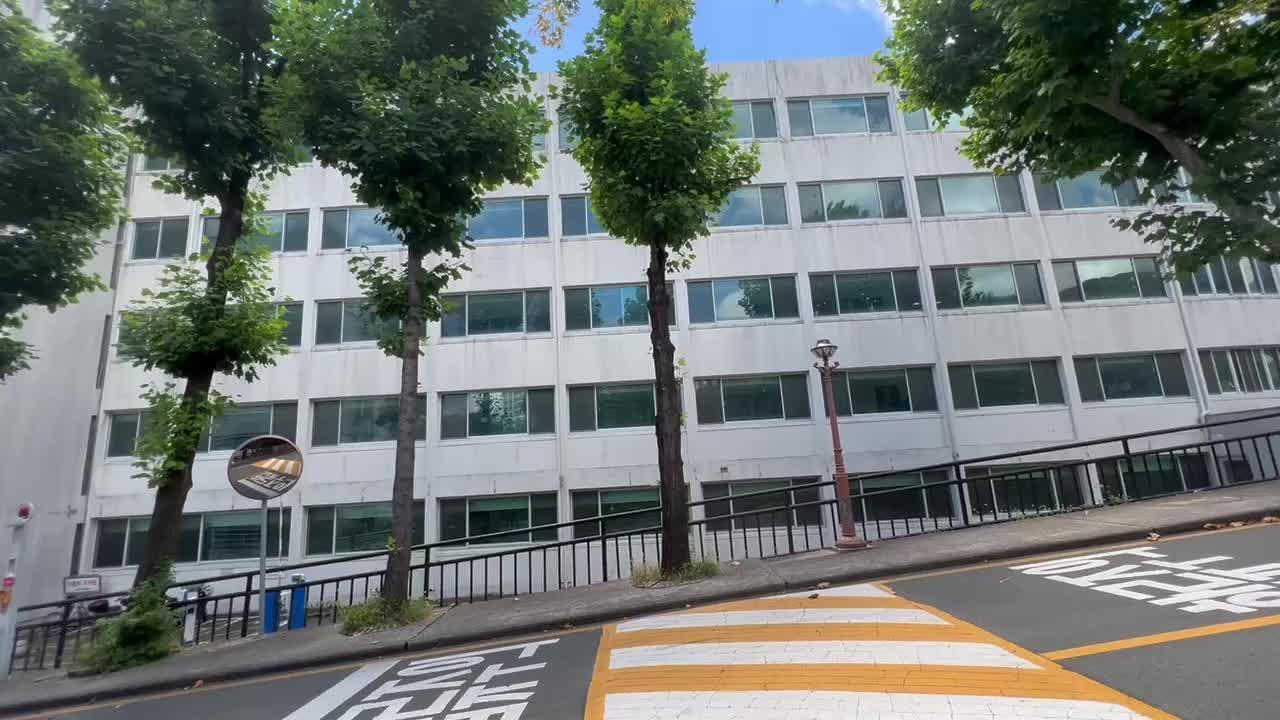building: (90, 223, 1279, 530)
